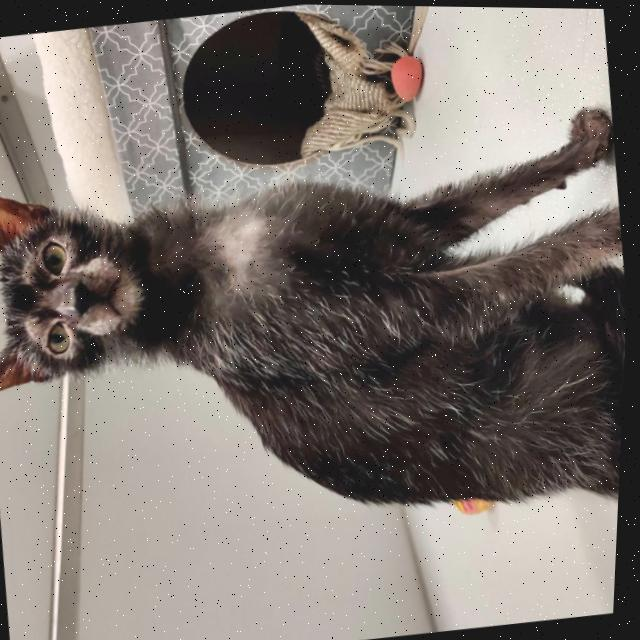Lykoi: (0, 89, 637, 576)
